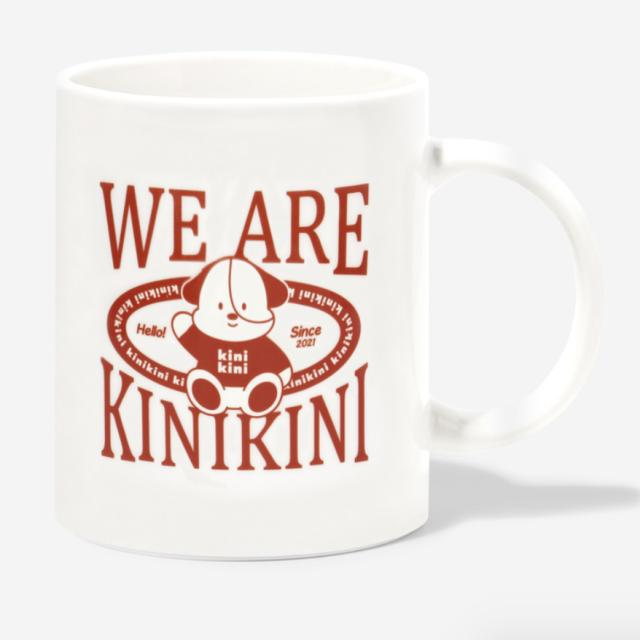recyclable: (44, 33, 604, 575)
